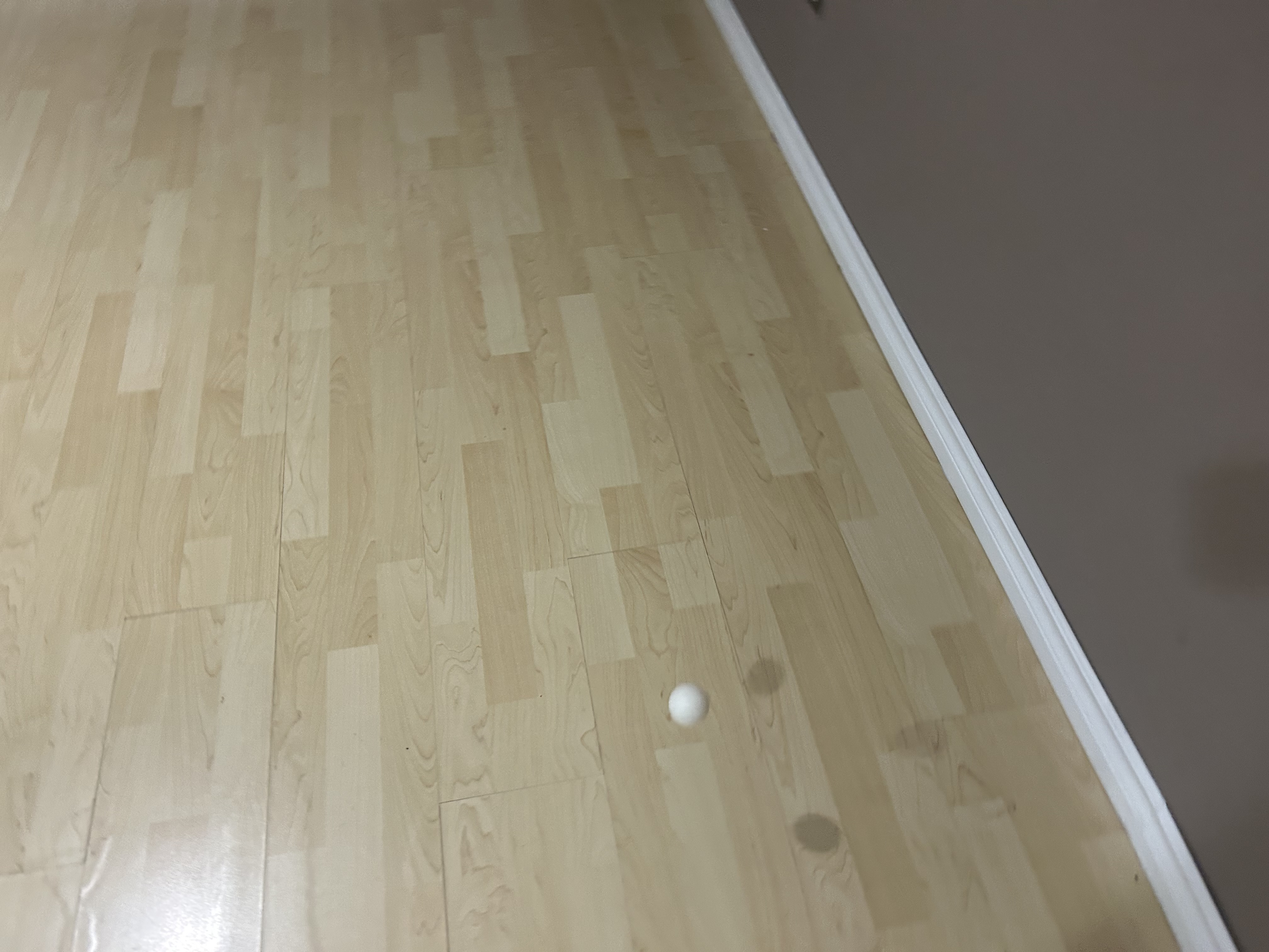Ball: (664, 673, 715, 731)
